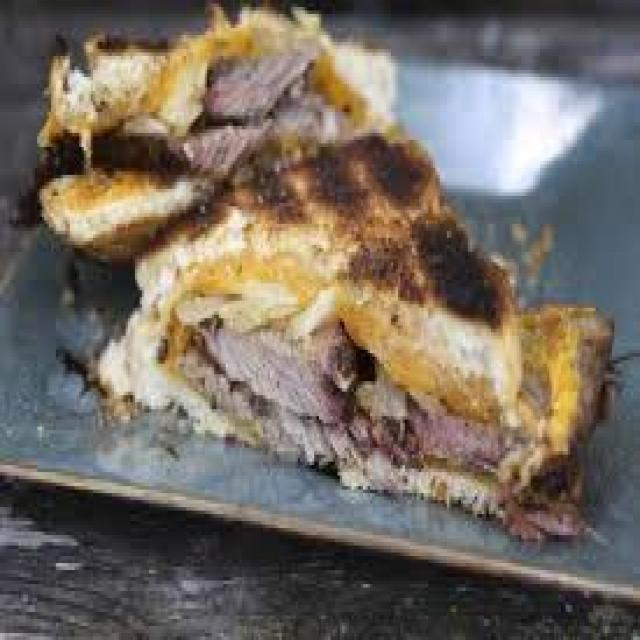organic waste: (88, 122, 614, 535), (35, 0, 402, 248), (207, 45, 319, 119), (172, 116, 252, 186), (272, 80, 344, 147)
